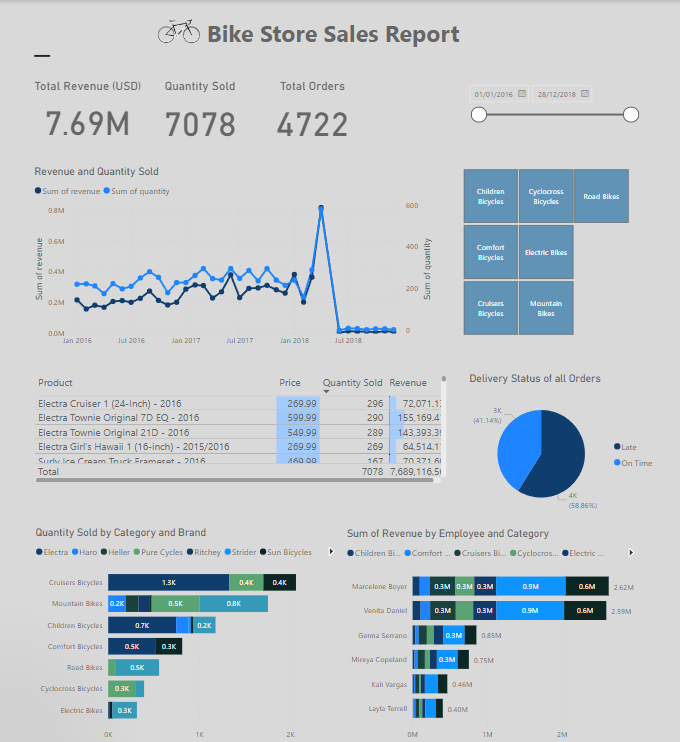

This screenshot's page, from the dashboard's own definition file:
{"tool":"powerbi","page":{"name":"Page 1","canvas":[1100,1200],"ordinal":0},"visuals":[{"type":"barChart","title":"Top Earning Employees","fields":{"Category":["Query1.employee name"],"Y":["Query1.revenue"]},"box":[553.3,848.3,481.7,351.7],"z":0},{"type":"pieChart","title":"Delivery Status of Orders","fields":{"Category":["Query1.delivery status"],"Y":["Query1.quantity"]},"box":[750,600,314.4,241.1],"z":1000},{"type":"tableEx","title":"Top 5 Selling Products","fields":{"Values":["Query1.product","Query1.list price","Query1.quantity","Query1.revenue"]},"box":[50,600,672.9,192.9],"z":2000},{"type":"slicer","fields":{"Values":["Query1.category"]},"box":[720,265,315,280],"z":3000},{"type":"lineChart","title":"Revenue and Quantity Sold","fields":{"Category":["Query1.order date.Variation.Date Hierarchy.Year","Query1.order date.Variation.Date Hierarchy.Month"],"Y":["Query1.revenue"],"Y2":["Query1.quantity"]},"box":[50,265,650,300],"z":4000},{"type":"slicer","title":"Date Filter","fields":{"Values":["Query1.order date"]},"box":[741.4,125.7,294.3,87.1],"z":5000},{"type":"card","title":"Total Orders","fields":{"Values":["Query1.order ID"]},"box":[484.6,126.7,217.2,106.6],"z":6000},{"type":"card","title":"Quantity Sold","fields":{"Values":["Query1.quantity"]},"box":[267.4,126.7,217.2,106.6],"z":7000},{"type":"card","title":"Total Revenue (USD)","fields":{"Values":["Query1.revenue"]},"box":[50.3,126.7,217.2,106.6],"z":8000},{"type":"textbox","title":"Title","box":[327.1,22.9,451.4,67.1],"z":9000},{"type":"image","box":[247.1,10,80,80],"z":10000},{"type":"actionButton","title":"Minus","box":[52.2,74.4,31.1,31.1],"z":12000},{"type":"clusteredBarChart","title":"Quantity Sold by Brand","fields":{"Category":["Query1.brand"],"Y":["Query1.quantity"]},"box":[50,848.3,503.3,351.7],"z":14000}]}

Visuals, with their boxes in screenshot pixels (x1, y1, x2, y2), scaled from the page's 1100x1200 canvas onto the 680x742 screenshot:
"Top Earning Employees" barChart: bbox=(342, 525, 640, 741)
"Delivery Status of Orders" pieChart: bbox=(464, 371, 658, 520)
"Top 5 Selling Products" tableEx: bbox=(31, 371, 447, 490)
slicer - Query1.category: bbox=(445, 164, 640, 337)
"Revenue and Quantity Sold" lineChart: bbox=(31, 164, 433, 349)
"Date Filter" slicer: bbox=(458, 78, 640, 132)
"Total Orders" card: bbox=(300, 78, 434, 144)
"Quantity Sold" card: bbox=(165, 78, 300, 144)
"Total Revenue (USD)" card: bbox=(31, 78, 165, 144)
"Title" textbox: bbox=(202, 14, 481, 56)
image: bbox=(153, 6, 202, 56)
"Minus" actionButton: bbox=(32, 46, 51, 65)
"Quantity Sold by Brand" clusteredBarChart: bbox=(31, 525, 342, 741)
